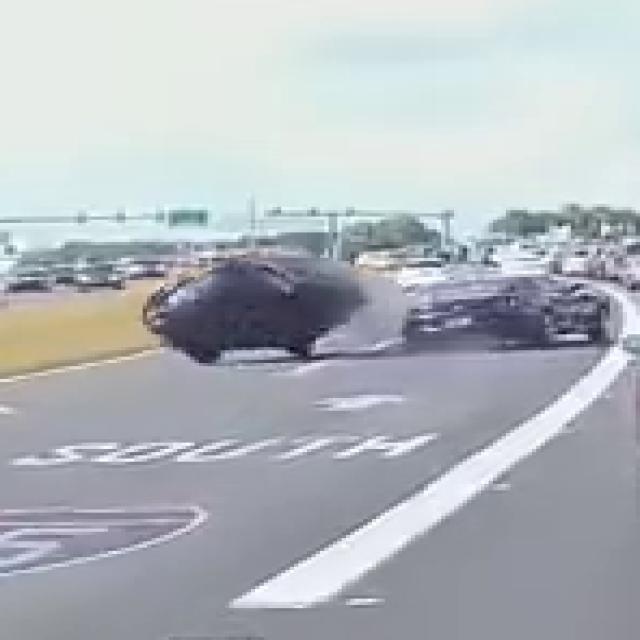accident: (132, 248, 600, 371), (142, 229, 362, 390)
